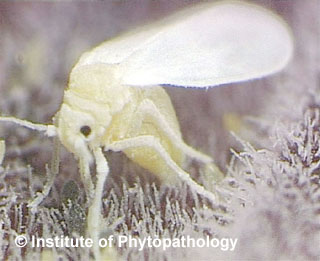whitefly: (2, 1, 293, 251)
